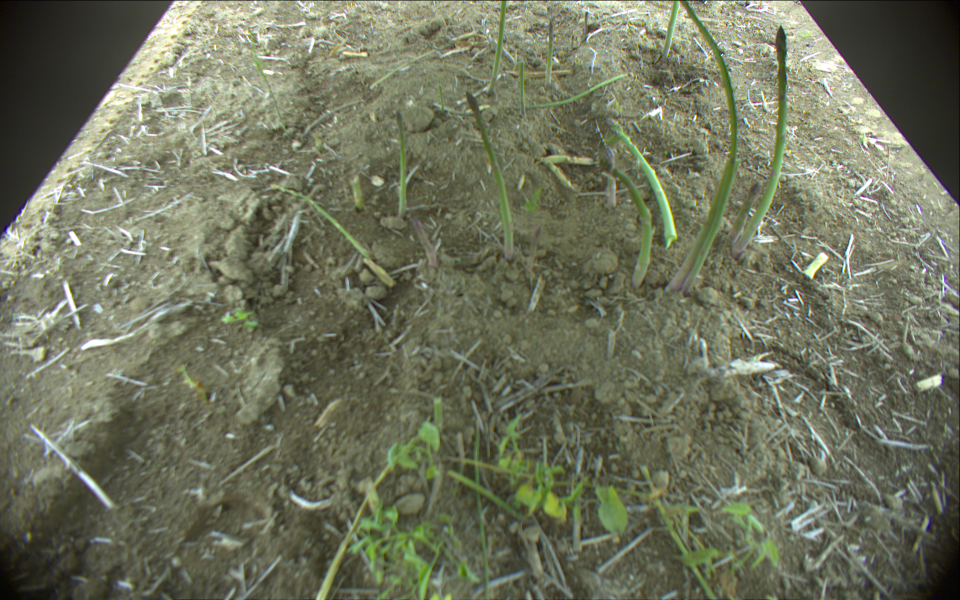aspa: (663, 1, 736, 296), (310, 443, 409, 600), (736, 25, 789, 251), (606, 116, 678, 244), (466, 93, 512, 262), (274, 184, 364, 259), (612, 170, 652, 289), (510, 74, 627, 109), (370, 45, 444, 88), (248, 32, 283, 122), (725, 182, 762, 246), (389, 114, 410, 216), (487, 1, 508, 93), (544, 21, 559, 87), (661, 1, 678, 57), (350, 175, 362, 214), (520, 62, 526, 124), (438, 80, 447, 116)
